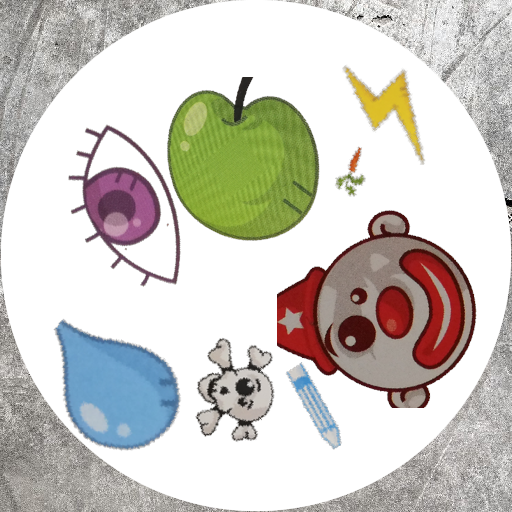apple_icon: (146, 77, 324, 255)
carrot_icon: (324, 146, 375, 197)
clown_icon: (277, 205, 480, 408)
eye_icon: (42, 119, 219, 296)
lightning_icon: (325, 49, 451, 175)
pen_icon: (270, 362, 361, 453)
raindrop_icon: (35, 305, 189, 459)
skull_icon: (178, 336, 295, 453)
